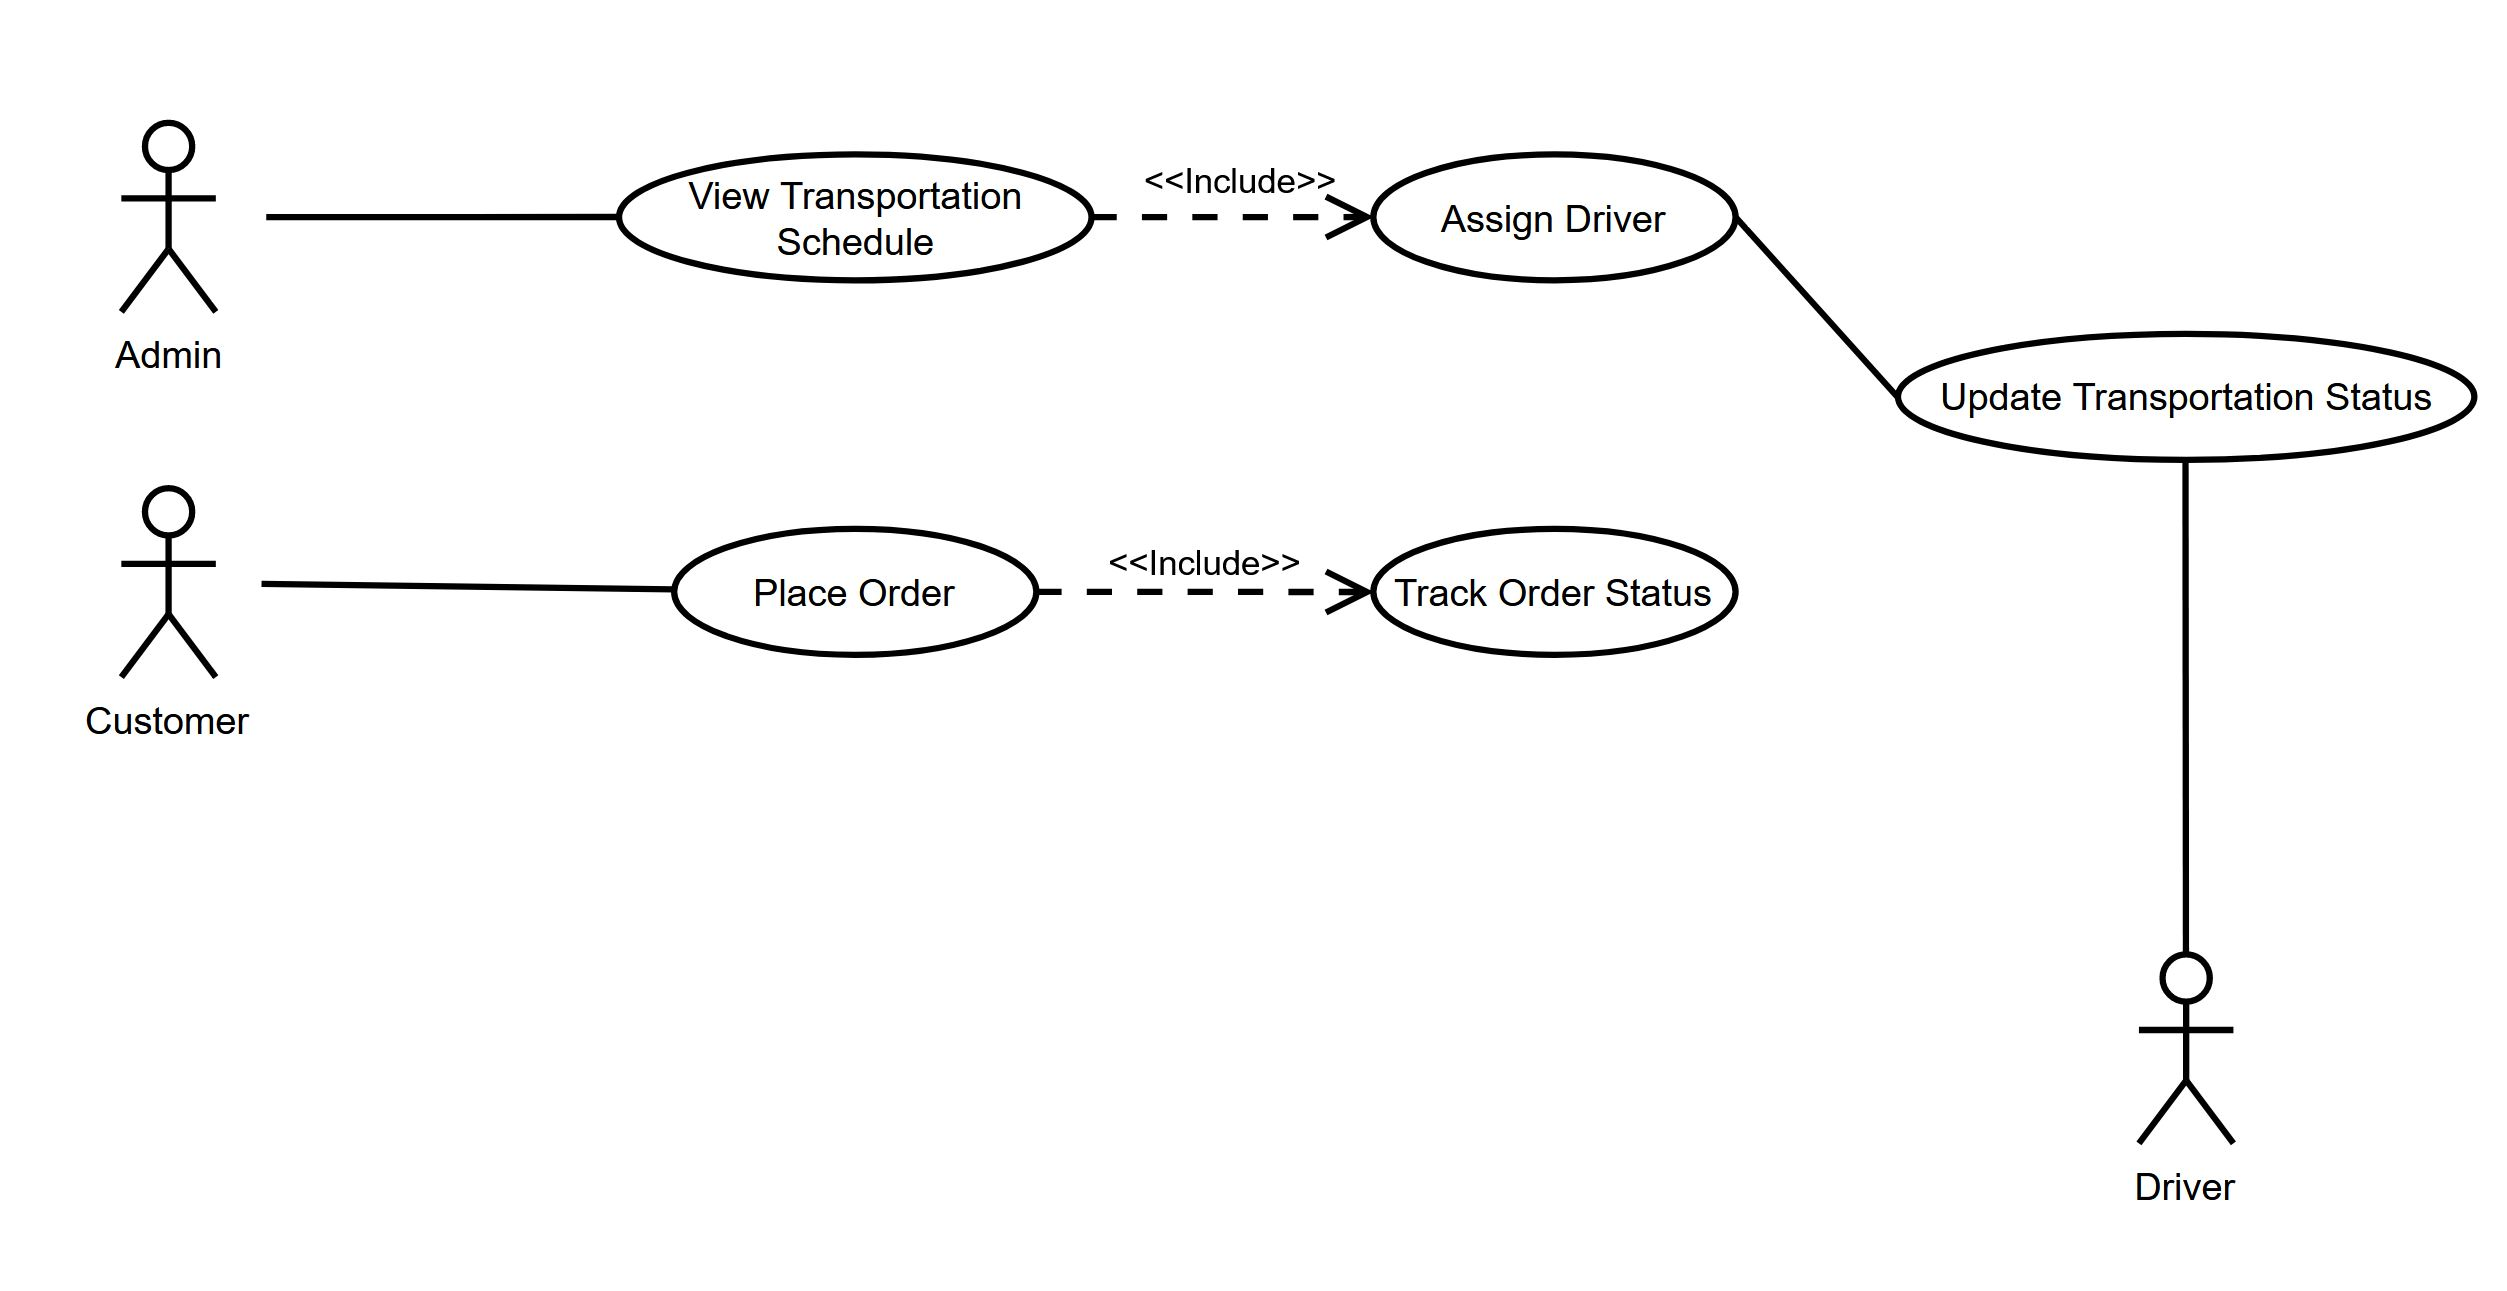actor: (107, 114, 234, 323), (109, 479, 227, 687), (2142, 950, 2240, 1158)
association: (2148, 466, 2217, 945), (268, 171, 617, 252), (1740, 216, 1895, 395), (253, 552, 667, 609), (1037, 562, 1366, 626), (1095, 189, 1366, 245)
text: (690, 173, 1035, 260), (1933, 374, 2433, 418), (1416, 193, 1677, 249), (1394, 571, 1720, 613), (752, 575, 963, 621), (1141, 156, 1347, 203), (1106, 535, 1304, 580), (2127, 1158, 2252, 1217), (77, 701, 250, 739), (110, 333, 239, 379)
use_case: (1890, 328, 2479, 466), (616, 148, 1096, 290), (673, 522, 1039, 662), (1371, 525, 1743, 662), (1370, 150, 1737, 287)
